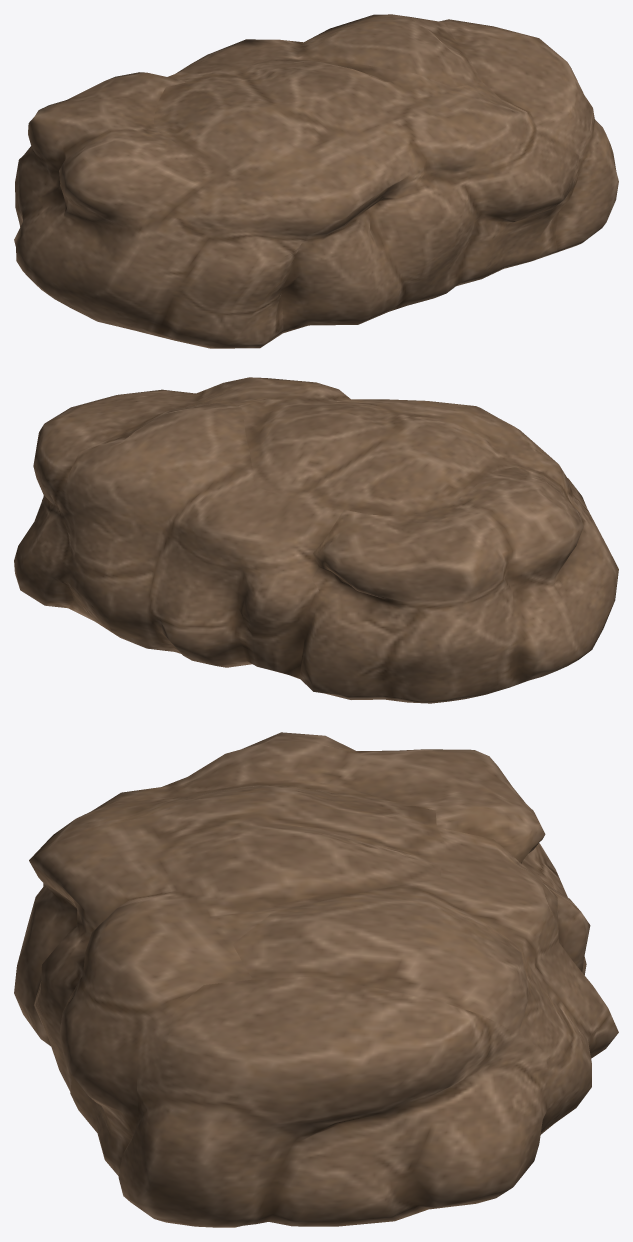
Rendered from sb_obj_nature006_Stone01d.fbx.
3 views of the same model, one above another, from view 1: azimuth 30°, elevation 25°; view 2: azimuth 150°, elevation 25°; view 3: azimuth 270°, elevation 25° (orthographic). The views are drawn at different scales.
Visible parts, largest first — view 1: sb_obj_nature006_Stone01d; view 2: sb_obj_nature006_Stone01d; view 3: sb_obj_nature006_Stone01d.
Part boxes in pixels (x1,y1,x2,y2): sb_obj_nature006_Stone01d: [14, 14, 618, 348]; sb_obj_nature006_Stone01d: [14, 377, 618, 703]; sb_obj_nature006_Stone01d: [14, 732, 618, 1227].
Bounding box in the file's own units: 1.09 × 0.352 × 0.8086.
